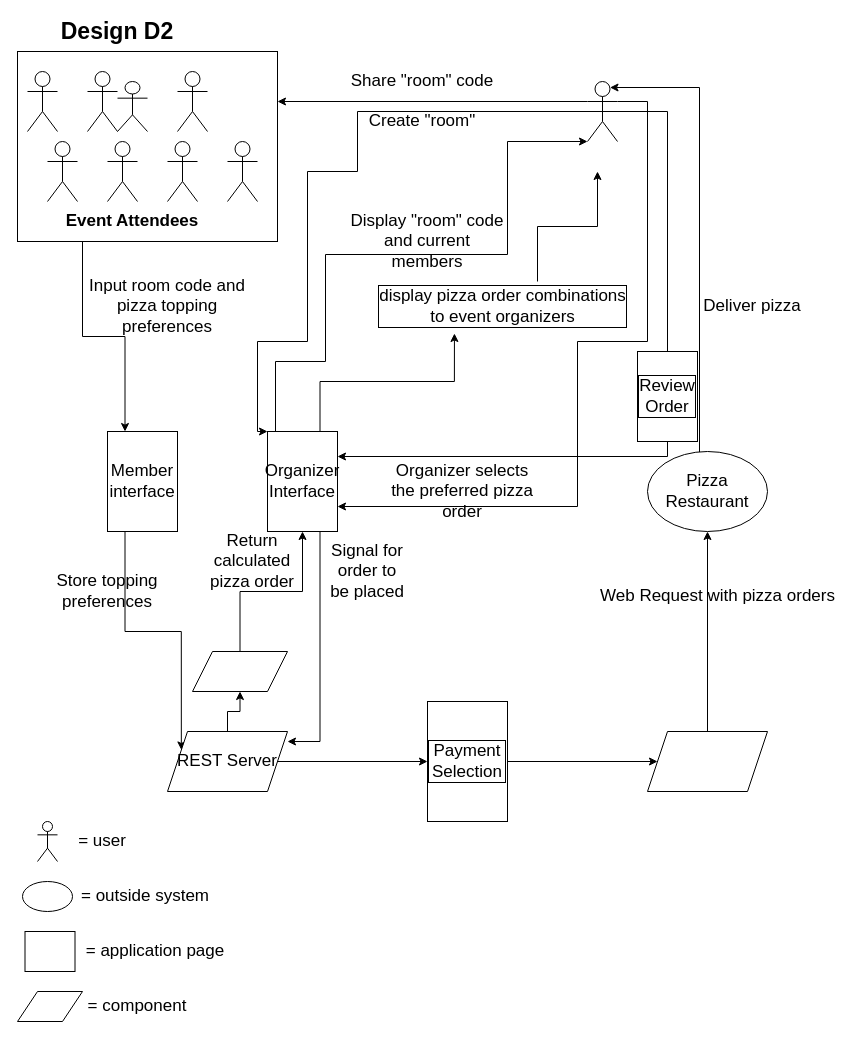
This 865x1039 diagram has some shape labels left out. The centre of each missing label's shape, as x and y in pixels:
Event Organizer: point (602, 111)
Payment API: point (707, 761)
Pizza Creation Algorithm: point (240, 671)
